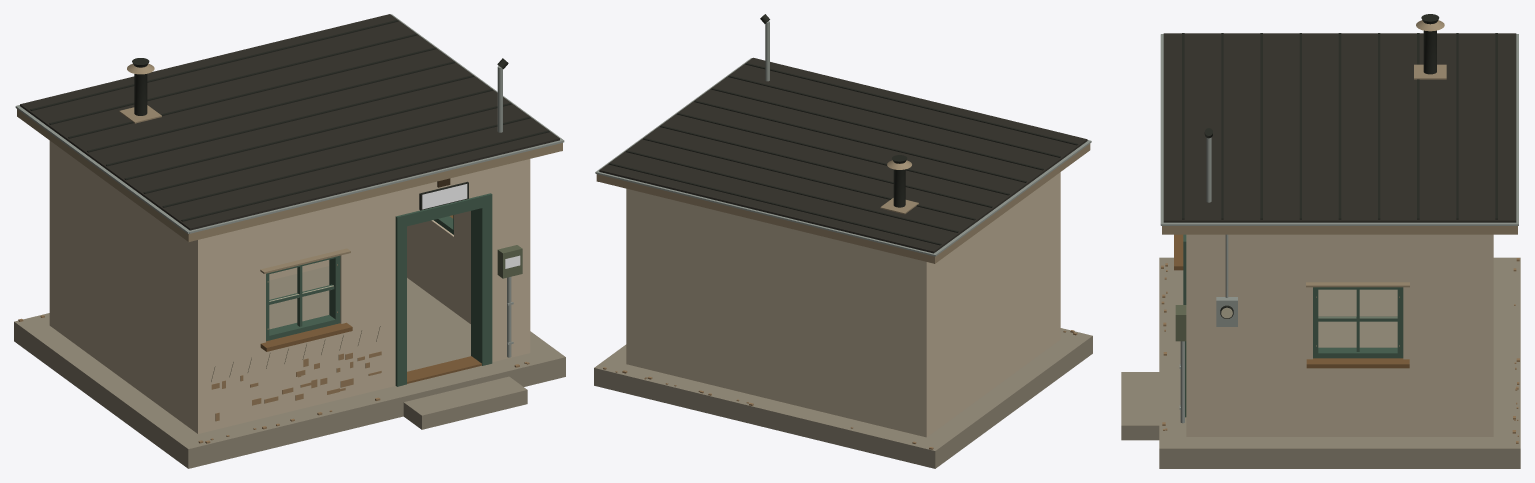
File: SM_FieldStation_Hut_Shell.fbx
3 views of the same model, side by side, from view 1: azimuth 30°, elevation 25°; view 2: azimuth 150°, elevation 25°; view 3: azimuth 270°, elevation 25° (orthographic). The views are drawn at different scales.
Visible parts, largest first — view 1: SM_FieldStation_Hut_Shell; view 2: SM_FieldStation_Hut_Shell; view 3: SM_FieldStation_Hut_Shell.
Part boxes in pixels (left/top/right/bottom): SM_FieldStation_Hut_Shell: left=14, top=14, right=565, bottom=468; SM_FieldStation_Hut_Shell: left=594, top=14, right=1092, bottom=468; SM_FieldStation_Hut_Shell: left=1121, top=14, right=1520, bottom=468.
Bounding box in the file's own units: 5 × 4.42 × 3.92.
